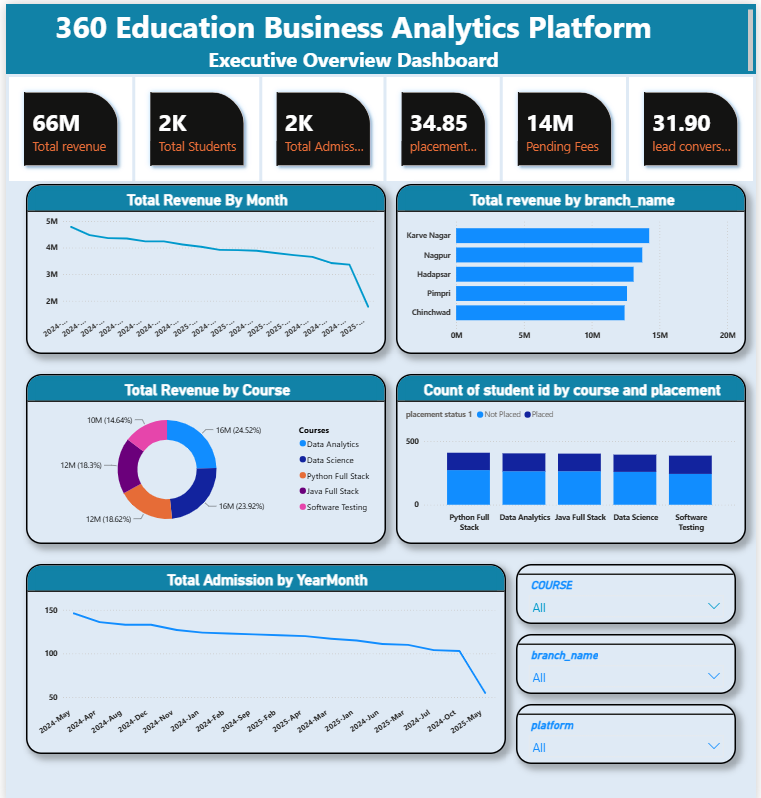

This screenshot's page, from the dashboard's own definition file:
{"tool":"powerbi","page":{"name":"Executive Overview Dashboard","canvas":[1200,1280],"ordinal":0},"visuals":[{"type":"textbox","box":[-80,0,1280,112],"z":0},{"type":"cardVisual","fields":{"Data":["Revenue Measures.Total revenue"]},"box":[0,112,208,176],"z":1000},{"type":"cardVisual","fields":{"Data":["Student Measures.Total Admission"]},"box":[403.2,112,208,176],"z":2000},{"type":"cardVisual","fields":{"Data":["Student Measures.Total Students"]},"box":[201.6,112,208,176],"z":3000},{"type":"cardVisual","fields":{"Data":["Placement Measures.placement rate"]},"box":[604.8,112,192,176],"z":4000},{"type":"cardVisual","fields":{"Data":["Revenue Measures.Pending Fees"]},"box":[790.4,112,208,176],"z":5000},{"type":"cardVisual","fields":{"Data":["Lead Measures.lead conversion %"]},"box":[992,112,208,176],"z":6000},{"type":"lineChart","title":"Total Revenue By Month","fields":{"Category":["DateTable.YearMonth"],"Y":["Revenue Measures.Total revenue"]},"box":[32,288,576,272],"z":7000},{"type":"barChart","fields":{"Category":["Branches.branch_name"],"Y":["Revenue Measures.Total revenue"]},"box":[624,288,560,272],"z":8000},{"type":"donutChart","title":"Total Revenue by Course","fields":{"Category":["Courses.course_name"],"Y":["Revenue Measures.Total revenue"]},"box":[32,592,576,272],"z":9000},{"type":"columnChart","title":"Count of student id by course and placement ","fields":{"Category":["Courses.course_name"],"Series":["Placements.placement status 1"],"Y":["CountNonNull(Placements.student id)"]},"box":[624,592,560,272],"z":10000},{"type":"lineChart","fields":{"Category":["DateTable.YearMonth"],"Y":["Student Measures.Total Admission"]},"box":[32,896,768,304],"z":11000},{"type":"slicer","fields":{"Values":["Courses.course_name"]},"box":[816,896,352,96],"z":12000},{"type":"slicer","fields":{"Values":["Branches.branch_name"]},"box":[816,1008,352,96],"z":13000},{"type":"slicer","fields":{"Values":["Marketing.platform"]},"box":[816,1120,352,96],"z":14000}]}

Visuals, with their boxes in screenshot pixels (x1, y1, x2, y2), scaled from the page's 1200x1280 canvas onto the 761x798 screenshot:
textbox: pyautogui.locateOnScreen(0, 0, 760, 70)
cardVisual - Revenue Measures.Total revenue: pyautogui.locateOnScreen(0, 70, 132, 180)
cardVisual - Student Measures.Total Admission: pyautogui.locateOnScreen(256, 70, 388, 180)
cardVisual - Student Measures.Total Students: pyautogui.locateOnScreen(128, 70, 260, 180)
cardVisual - Placement Measures.placement rate: pyautogui.locateOnScreen(384, 70, 505, 180)
cardVisual - Revenue Measures.Pending Fees: pyautogui.locateOnScreen(501, 70, 633, 180)
cardVisual - Lead Measures.lead conversion %: pyautogui.locateOnScreen(629, 70, 760, 180)
"Total Revenue By Month" lineChart: pyautogui.locateOnScreen(20, 180, 386, 349)
barChart - Branches.branch_name x Revenue Measures.Total revenue: pyautogui.locateOnScreen(396, 180, 751, 349)
"Total Revenue by Course" donutChart: pyautogui.locateOnScreen(20, 369, 386, 539)
"Count of student id by course and placement " columnChart: pyautogui.locateOnScreen(396, 369, 751, 539)
lineChart - DateTable.YearMonth x Student Measures.Total Admission: pyautogui.locateOnScreen(20, 559, 507, 748)
slicer - Courses.course_name: pyautogui.locateOnScreen(517, 559, 741, 618)
slicer - Branches.branch_name: pyautogui.locateOnScreen(517, 628, 741, 688)
slicer - Marketing.platform: pyautogui.locateOnScreen(517, 698, 741, 758)
